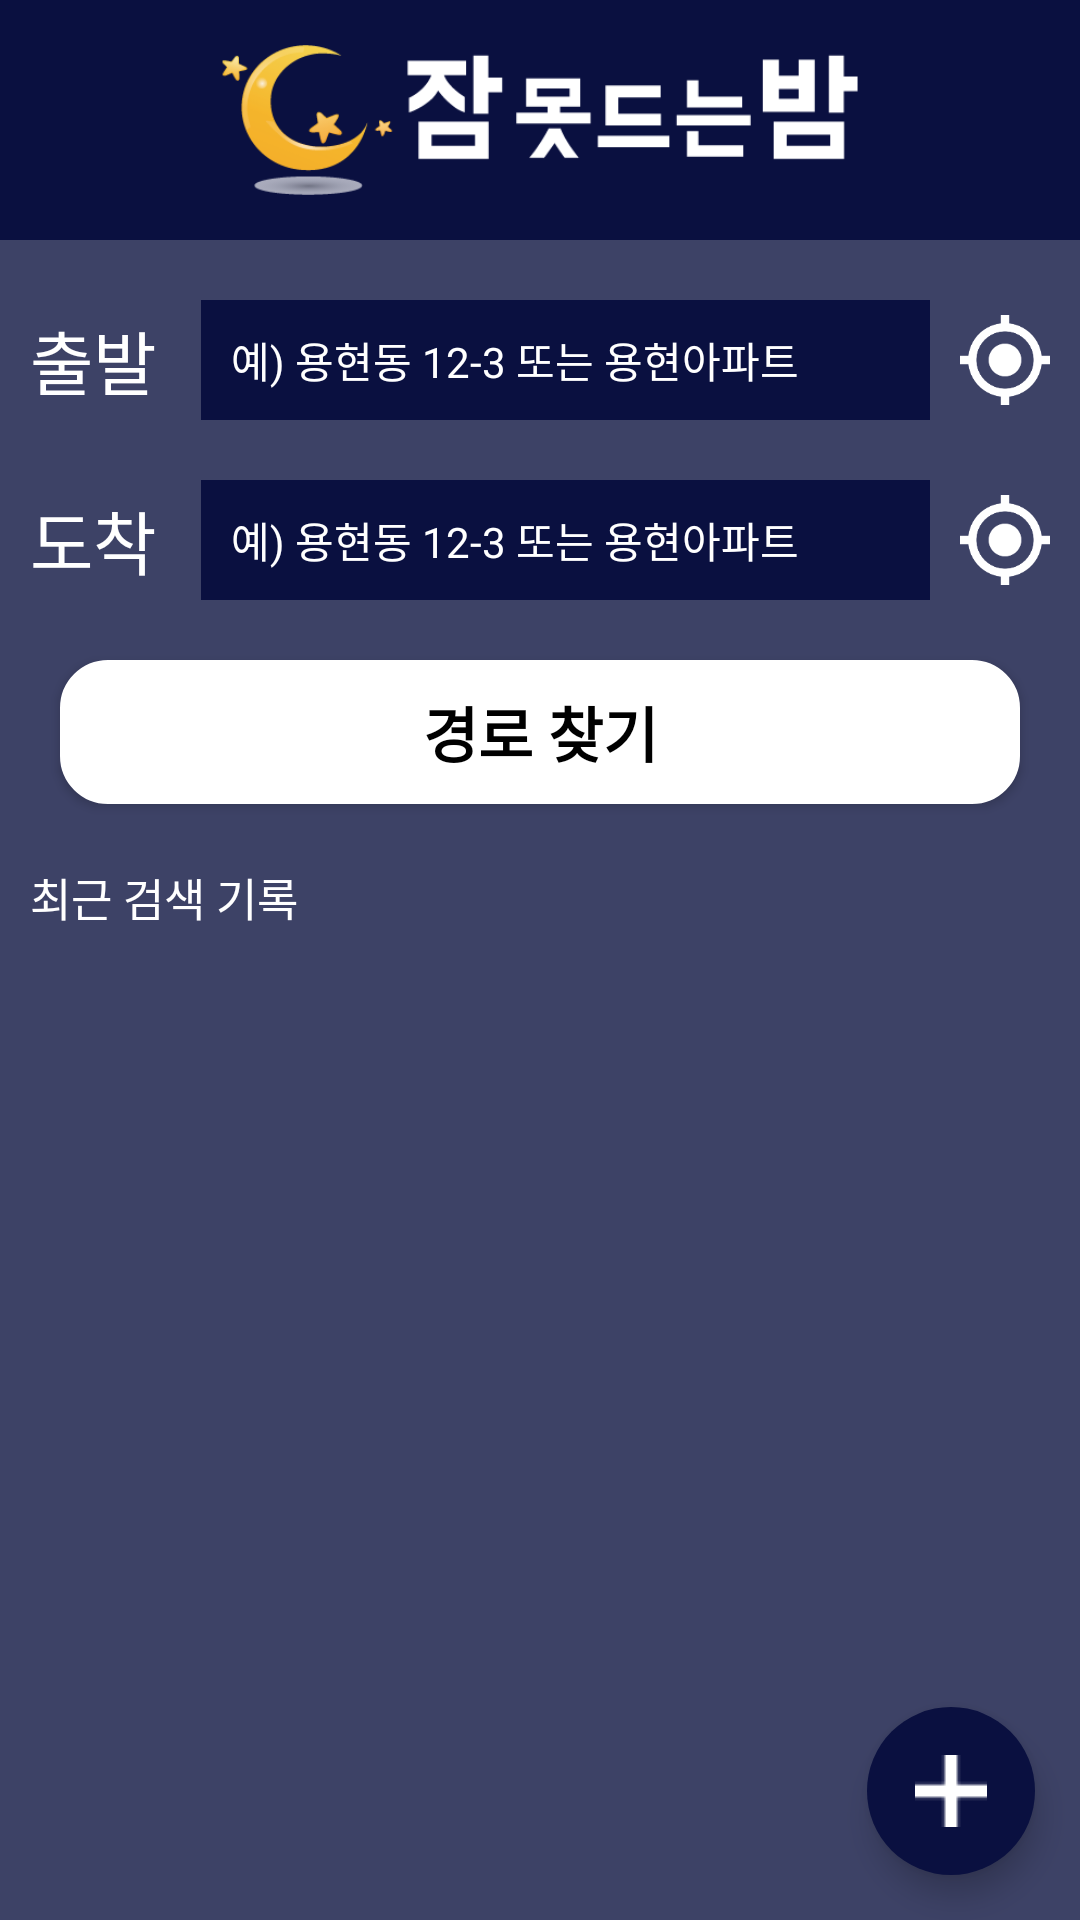

Screen size 1080 x 1920. Icon name, then its center in pixels as (x,y):
plus: (951,1791)
present location: (1005,360), (1005,540)
